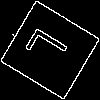L: (25, 25, 78, 74)
